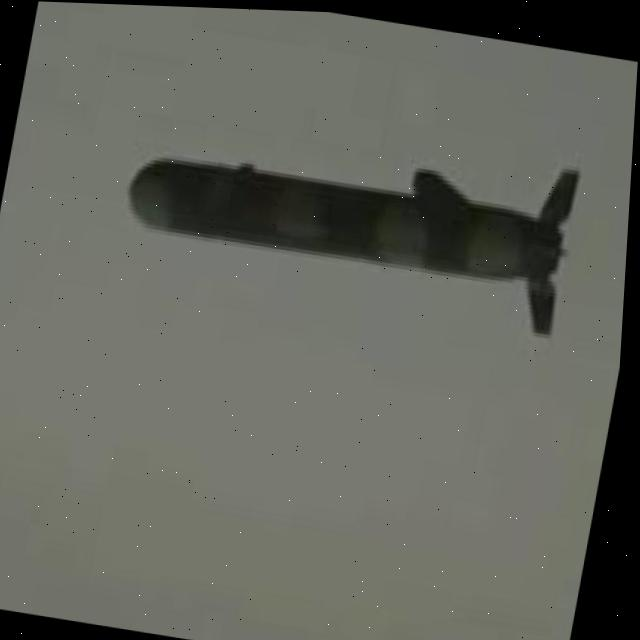missile: (109, 99, 586, 337)
